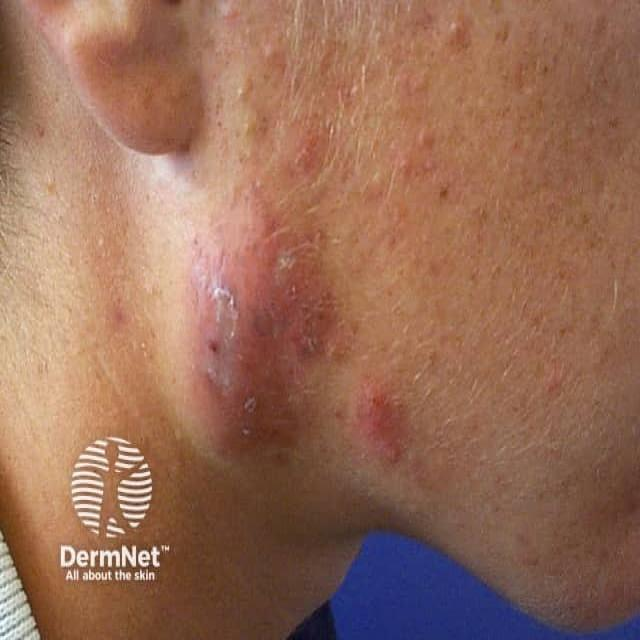Acne: (144, 188, 442, 470)
